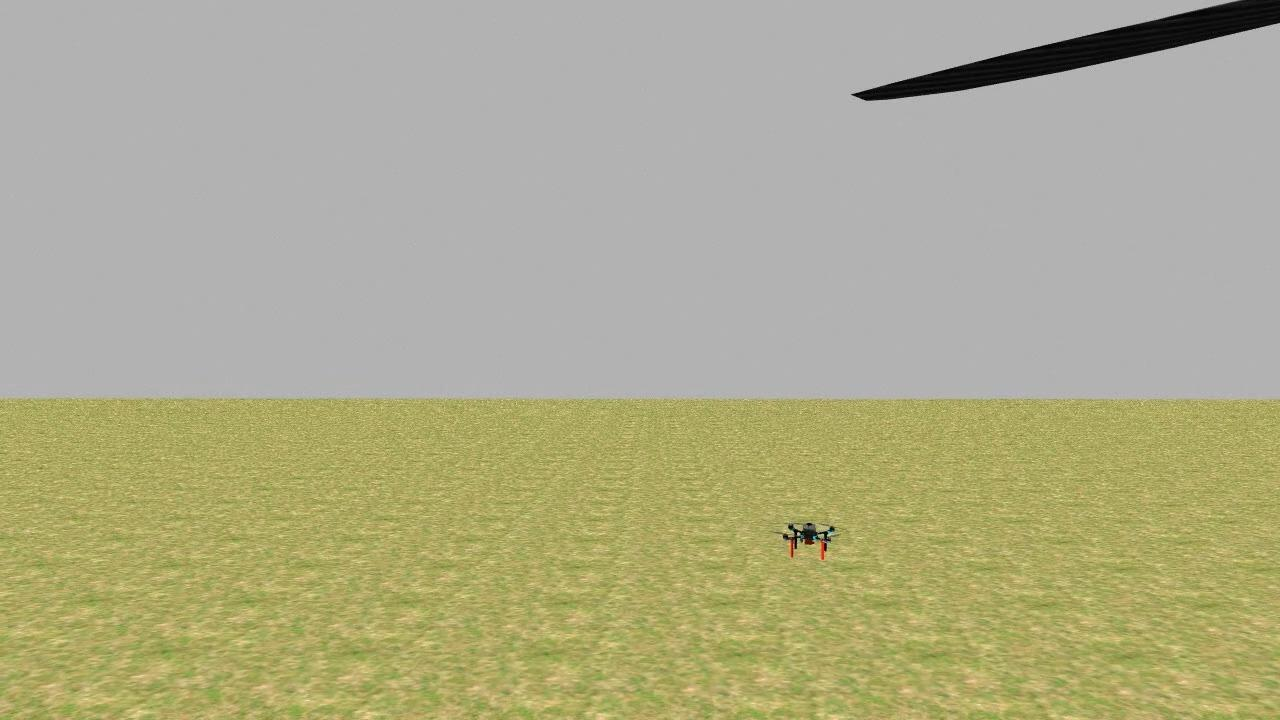UAV: (758, 497, 866, 571)
